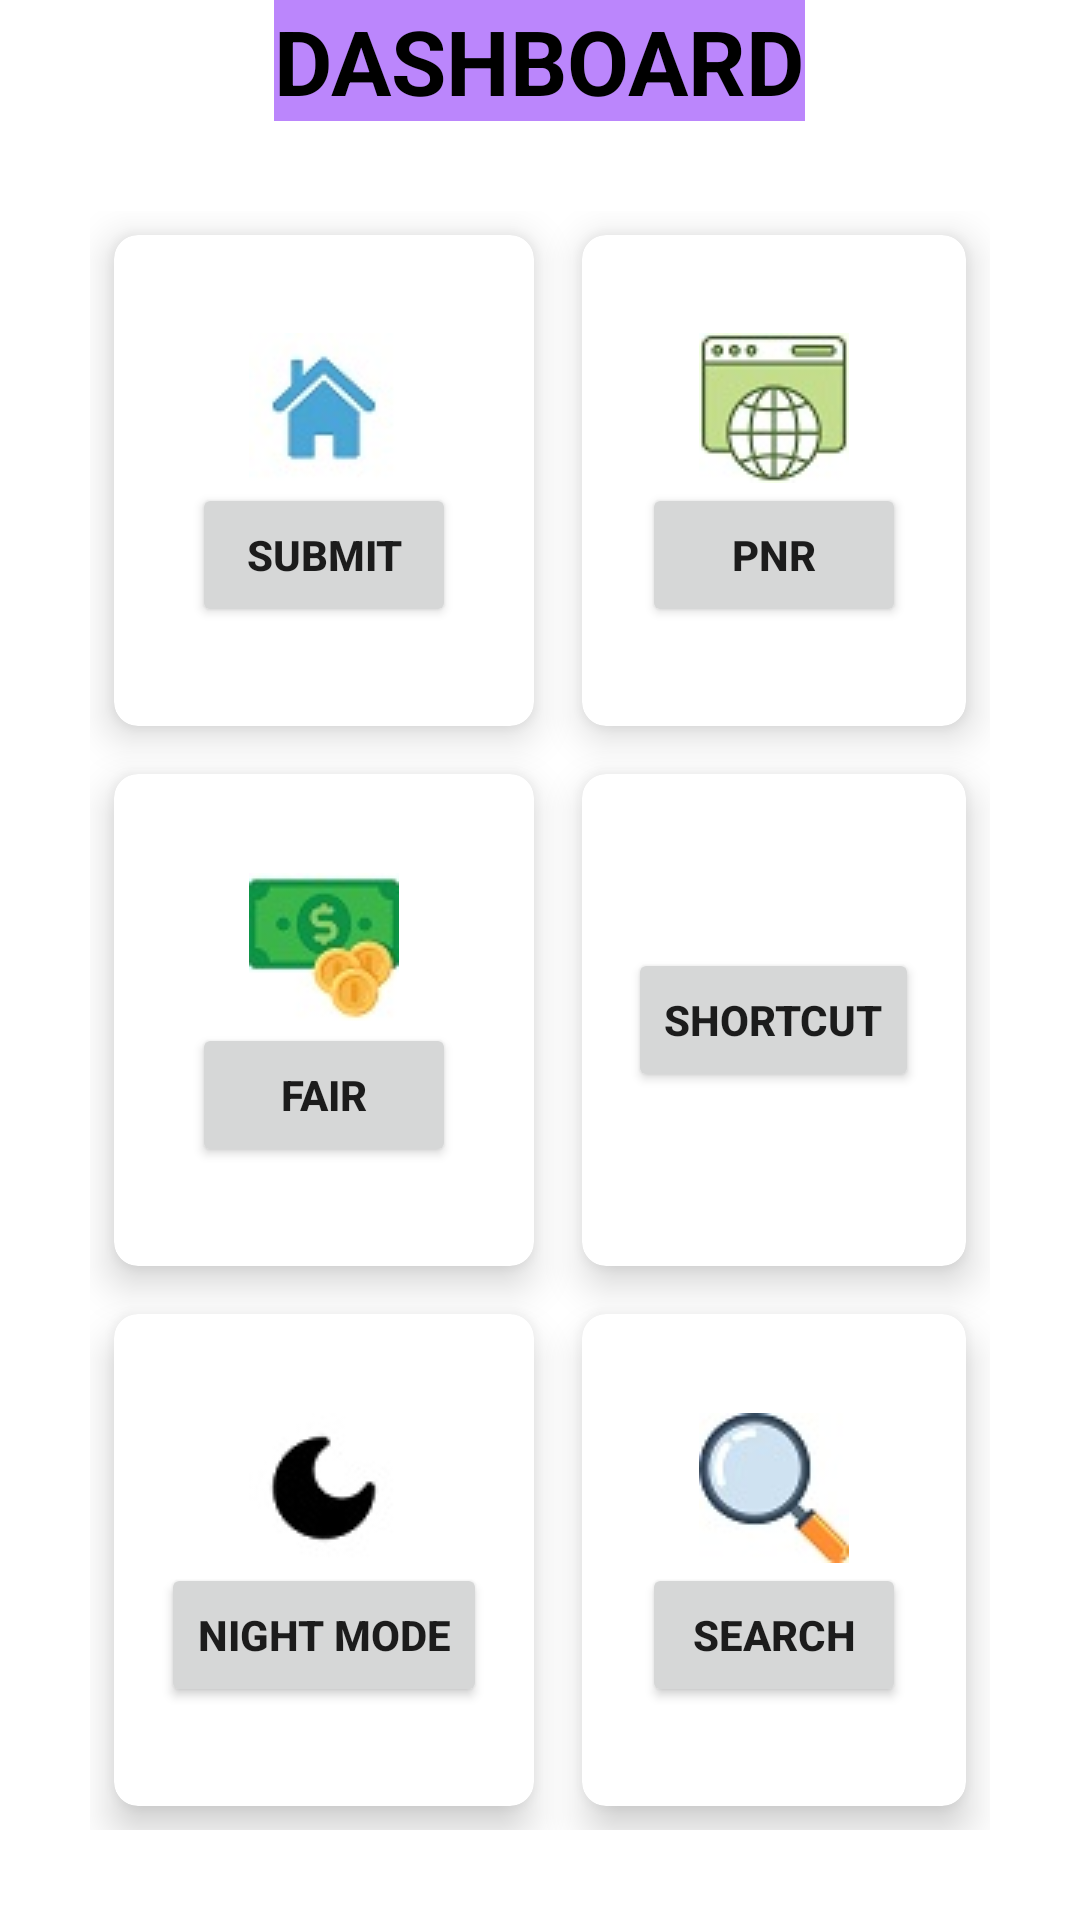

Screen size 1080px x 1920px. Icon name, then its center in pixels as (x=x, y=y):
browse: (x=774, y=408)
money: (x=324, y=948)
